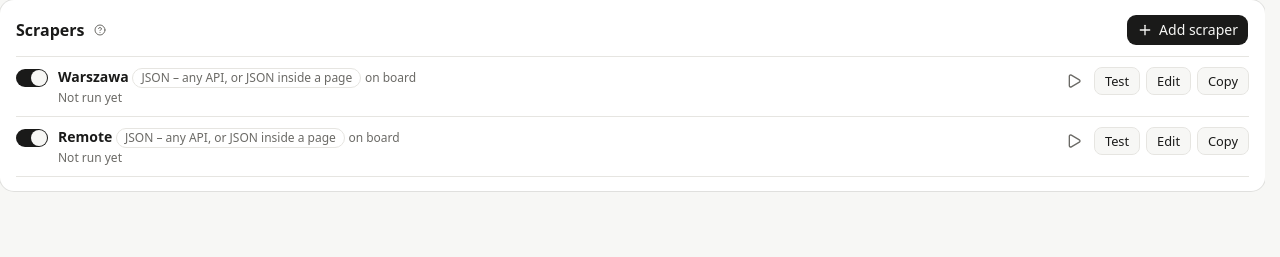
Test: ScrapersPanel › shows a failed run under the list
Click the button named "Run Remote now": click(1074, 141) [1060,127,1088,155]
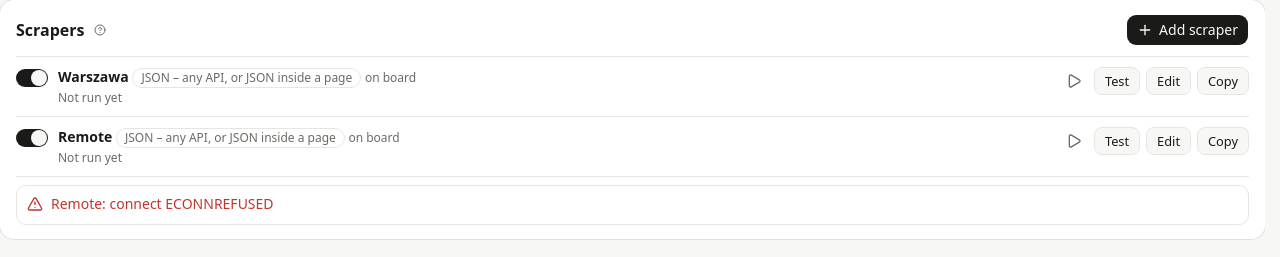
Expected: the message reads "Remote: connect ECONNREFUSED", [51,194,274,213]
